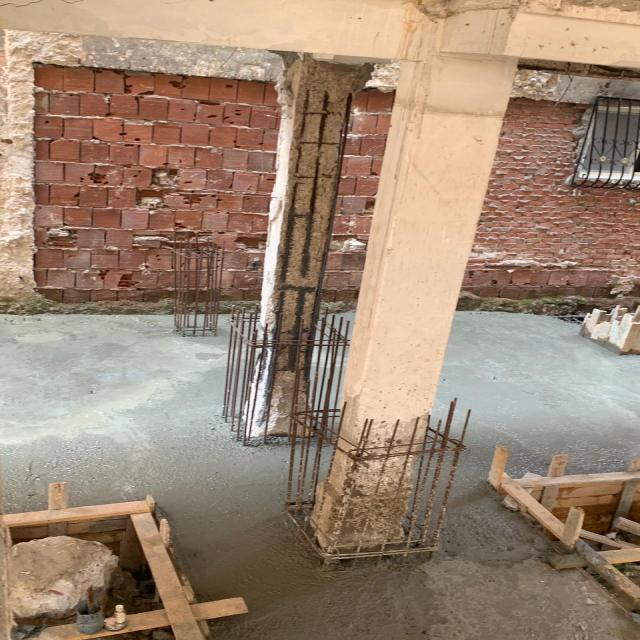Rebar: (257, 64, 367, 330)
